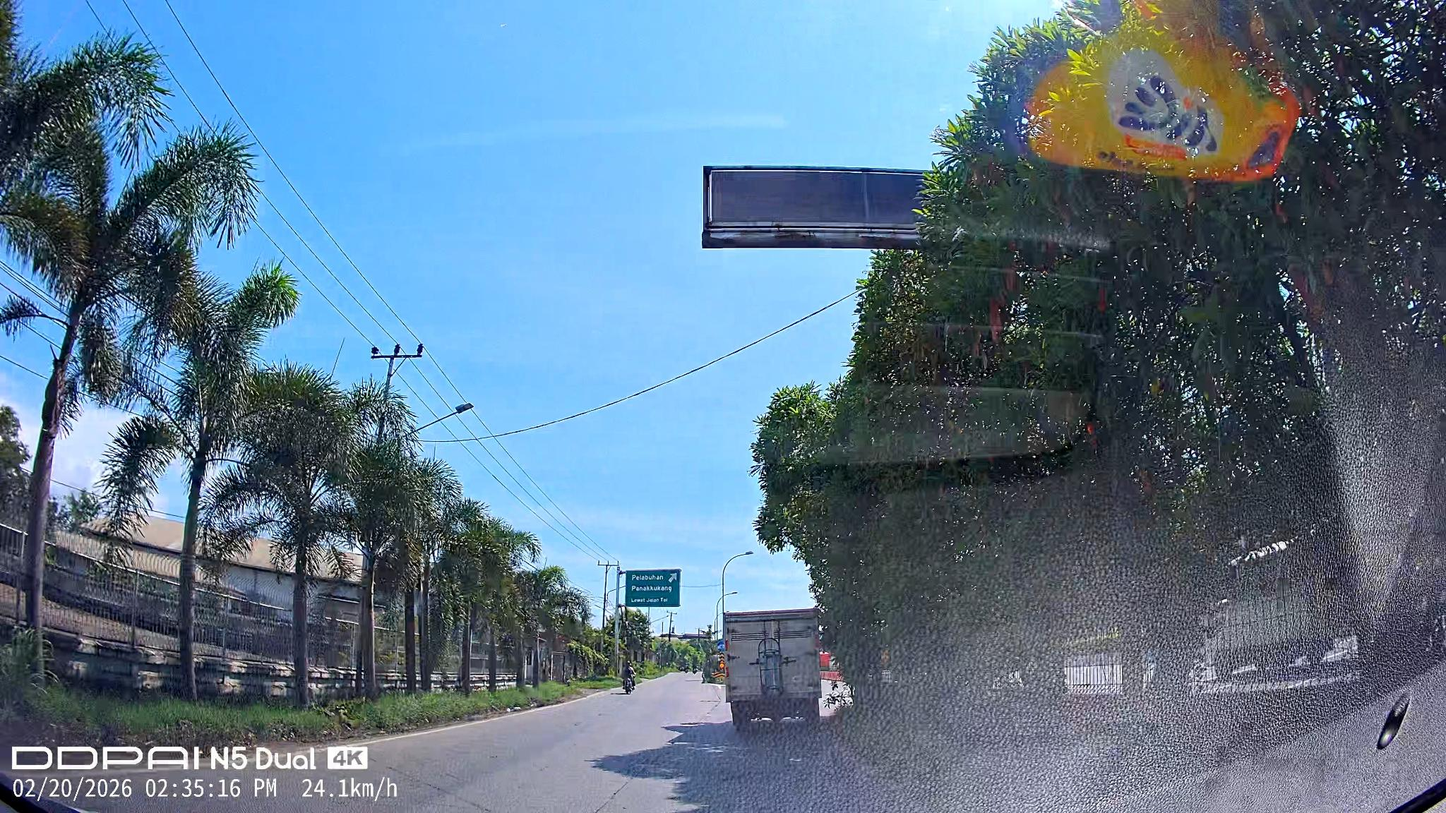rambu_teks: (625, 568, 681, 607)
